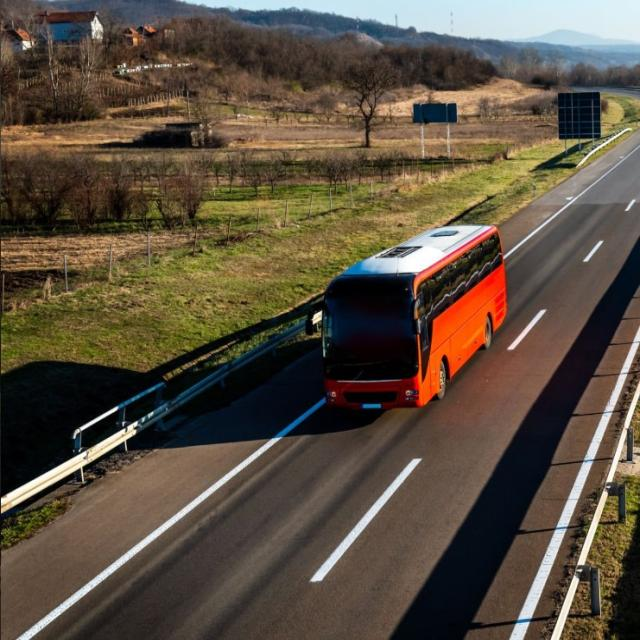bus: (305, 223, 507, 413)
